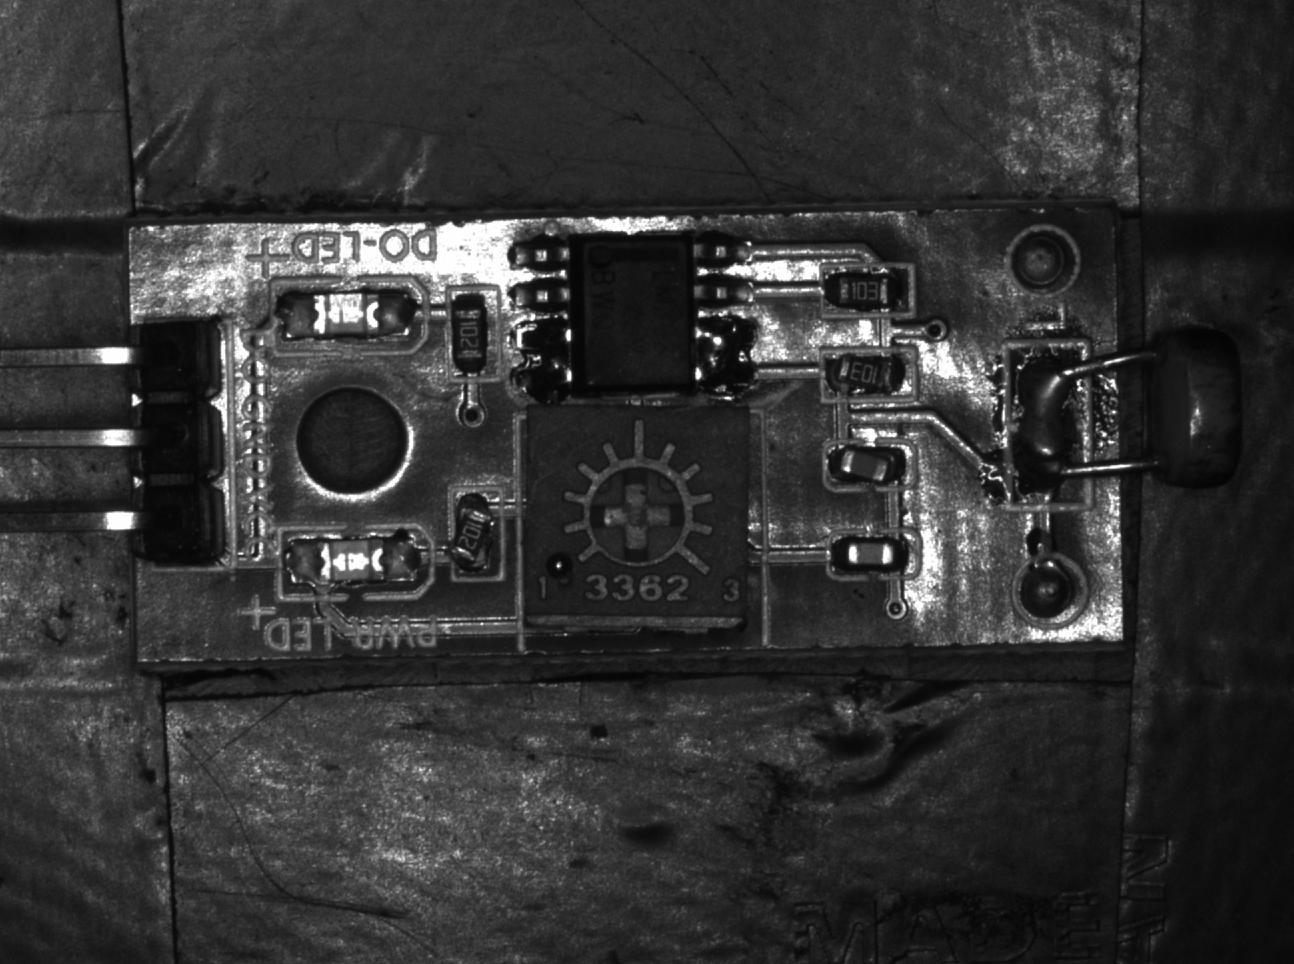bridge: (1006, 340, 1086, 508), (516, 321, 576, 405), (695, 318, 758, 396)
lifted: (823, 345, 920, 408), (451, 486, 505, 586), (821, 445, 918, 488)
ok: (820, 266, 916, 319), (828, 529, 924, 581), (450, 285, 499, 385)
